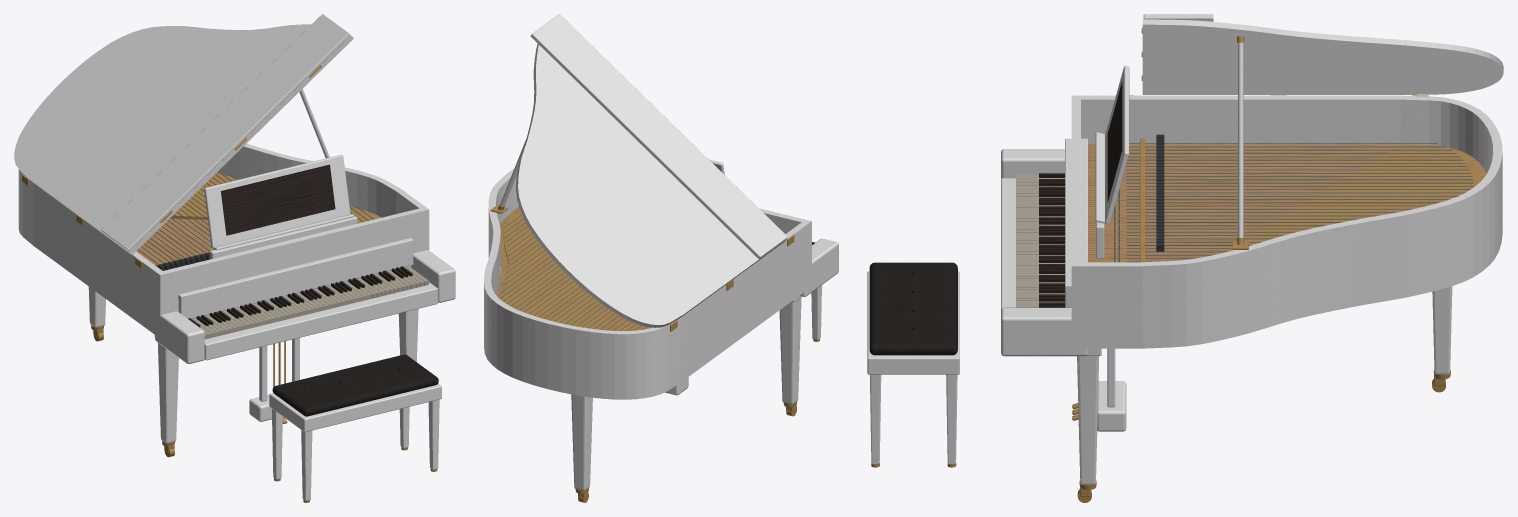
The model's file is grand_piano.glb.
The picture shows the model from 3 angles, left to right: view 1: azimuth 30°, elevation 25°; view 2: azimuth 150°, elevation 25°; view 3: azimuth 270°, elevation 25°; orthographic projection. The views are drawn at different scales.
Parts seen in each view (by area): view 1: lid_lacquer_piano_black_0, case_lacquer_piano_black_0, desk_lacquer_piano_black_0, bench_seat_leather_black_0, bench_lacquer_piano_black_0, desk_wood_ebony_1, keys_plastic_ivory_0, case_wood_oak_1, keys_wood_ebony_1, leg_1_lacquer_piano_black_0, case_brass_2, lyre_lacquer_piano_black_0 (+3 smaller); view 2: lid_lacquer_piano_black_0, case_lacquer_piano_black_0, case_brass_2, case_steel_brushed_3, leg_1_lacquer_piano_black_0, leg_3_lacquer_piano_black_0, case_wood_oak_1, bench_lacquer_piano_black_0; view 3: case_lacquer_piano_black_0, lid_lacquer_piano_black_0, case_wood_oak_1, case_steel_brushed_3, case_brass_2, bench_seat_leather_black_0, bench_lacquer_piano_black_0, keys_plastic_ivory_0, keys_wood_ebony_1, desk_lacquer_piano_black_0, leg_2_lacquer_piano_black_0, lyre_lacquer_piano_black_0 (+4 smaller).
Boxes of the visible parts, x1=… form: lid_lacquer_piano_black_0: x1=14, y1=14, x2=353, y2=254; case_lacquer_piano_black_0: x1=18, y1=143, x2=455, y2=363; desk_lacquer_piano_black_0: x1=204, y1=154, x2=357, y2=259; bench_seat_leather_black_0: x1=272, y1=354, x2=438, y2=416; bench_lacquer_piano_black_0: x1=269, y1=383, x2=441, y2=500; desk_wood_ebony_1: x1=221, y1=164, x2=335, y2=235; keys_plastic_ivory_0: x1=193, y1=267, x2=428, y2=339; case_wood_oak_1: x1=136, y1=172, x2=381, y2=270; keys_wood_ebony_1: x1=188, y1=266, x2=412, y2=327; leg_1_lacquer_piano_black_0: x1=154, y1=335, x2=178, y2=443; case_brass_2: x1=22, y1=173, x2=378, y2=268; lyre_lacquer_piano_black_0: x1=249, y1=337, x2=299, y2=421; lid_lacquer_piano_black_0: x1=516, y1=14, x2=787, y2=327; case_lacquer_piano_black_0: x1=484, y1=168, x2=838, y2=399; case_brass_2: x1=501, y1=209, x2=794, y2=331; case_steel_brushed_3: x1=499, y1=214, x2=646, y2=330; leg_1_lacquer_piano_black_0: x1=779, y1=295, x2=801, y2=404; leg_3_lacquer_piano_black_0: x1=571, y1=394, x2=592, y2=490; case_wood_oak_1: x1=496, y1=207, x2=651, y2=328; bench_lacquer_piano_black_0: x1=811, y1=285, x2=821, y2=339; case_lacquer_piano_black_0: x1=1001, y1=95, x2=1502, y2=356; lid_lacquer_piano_black_0: x1=1142, y1=14, x2=1503, y2=94; case_wood_oak_1: x1=1088, y1=144, x2=1486, y2=262; case_steel_brushed_3: x1=1114, y1=143, x2=1473, y2=262; case_brass_2: x1=1129, y1=95, x2=1481, y2=262; bench_seat_leather_black_0: x1=869, y1=262, x2=957, y2=355; bench_lacquer_piano_black_0: x1=867, y1=271, x2=959, y2=464; keys_plastic_ivory_0: x1=1016, y1=174, x2=1064, y2=307; keys_wood_ebony_1: x1=1039, y1=173, x2=1064, y2=307; desk_lacquer_piano_black_0: x1=1095, y1=65, x2=1129, y2=258; leg_2_lacquer_piano_black_0: x1=1077, y1=348, x2=1101, y2=485; lyre_lacquer_piano_black_0: x1=1097, y1=348, x2=1126, y2=431.
Size of what is drawn, in the model's own units: 1.51 by 1.88 by 2.33.
9 materials, 9 textured.
